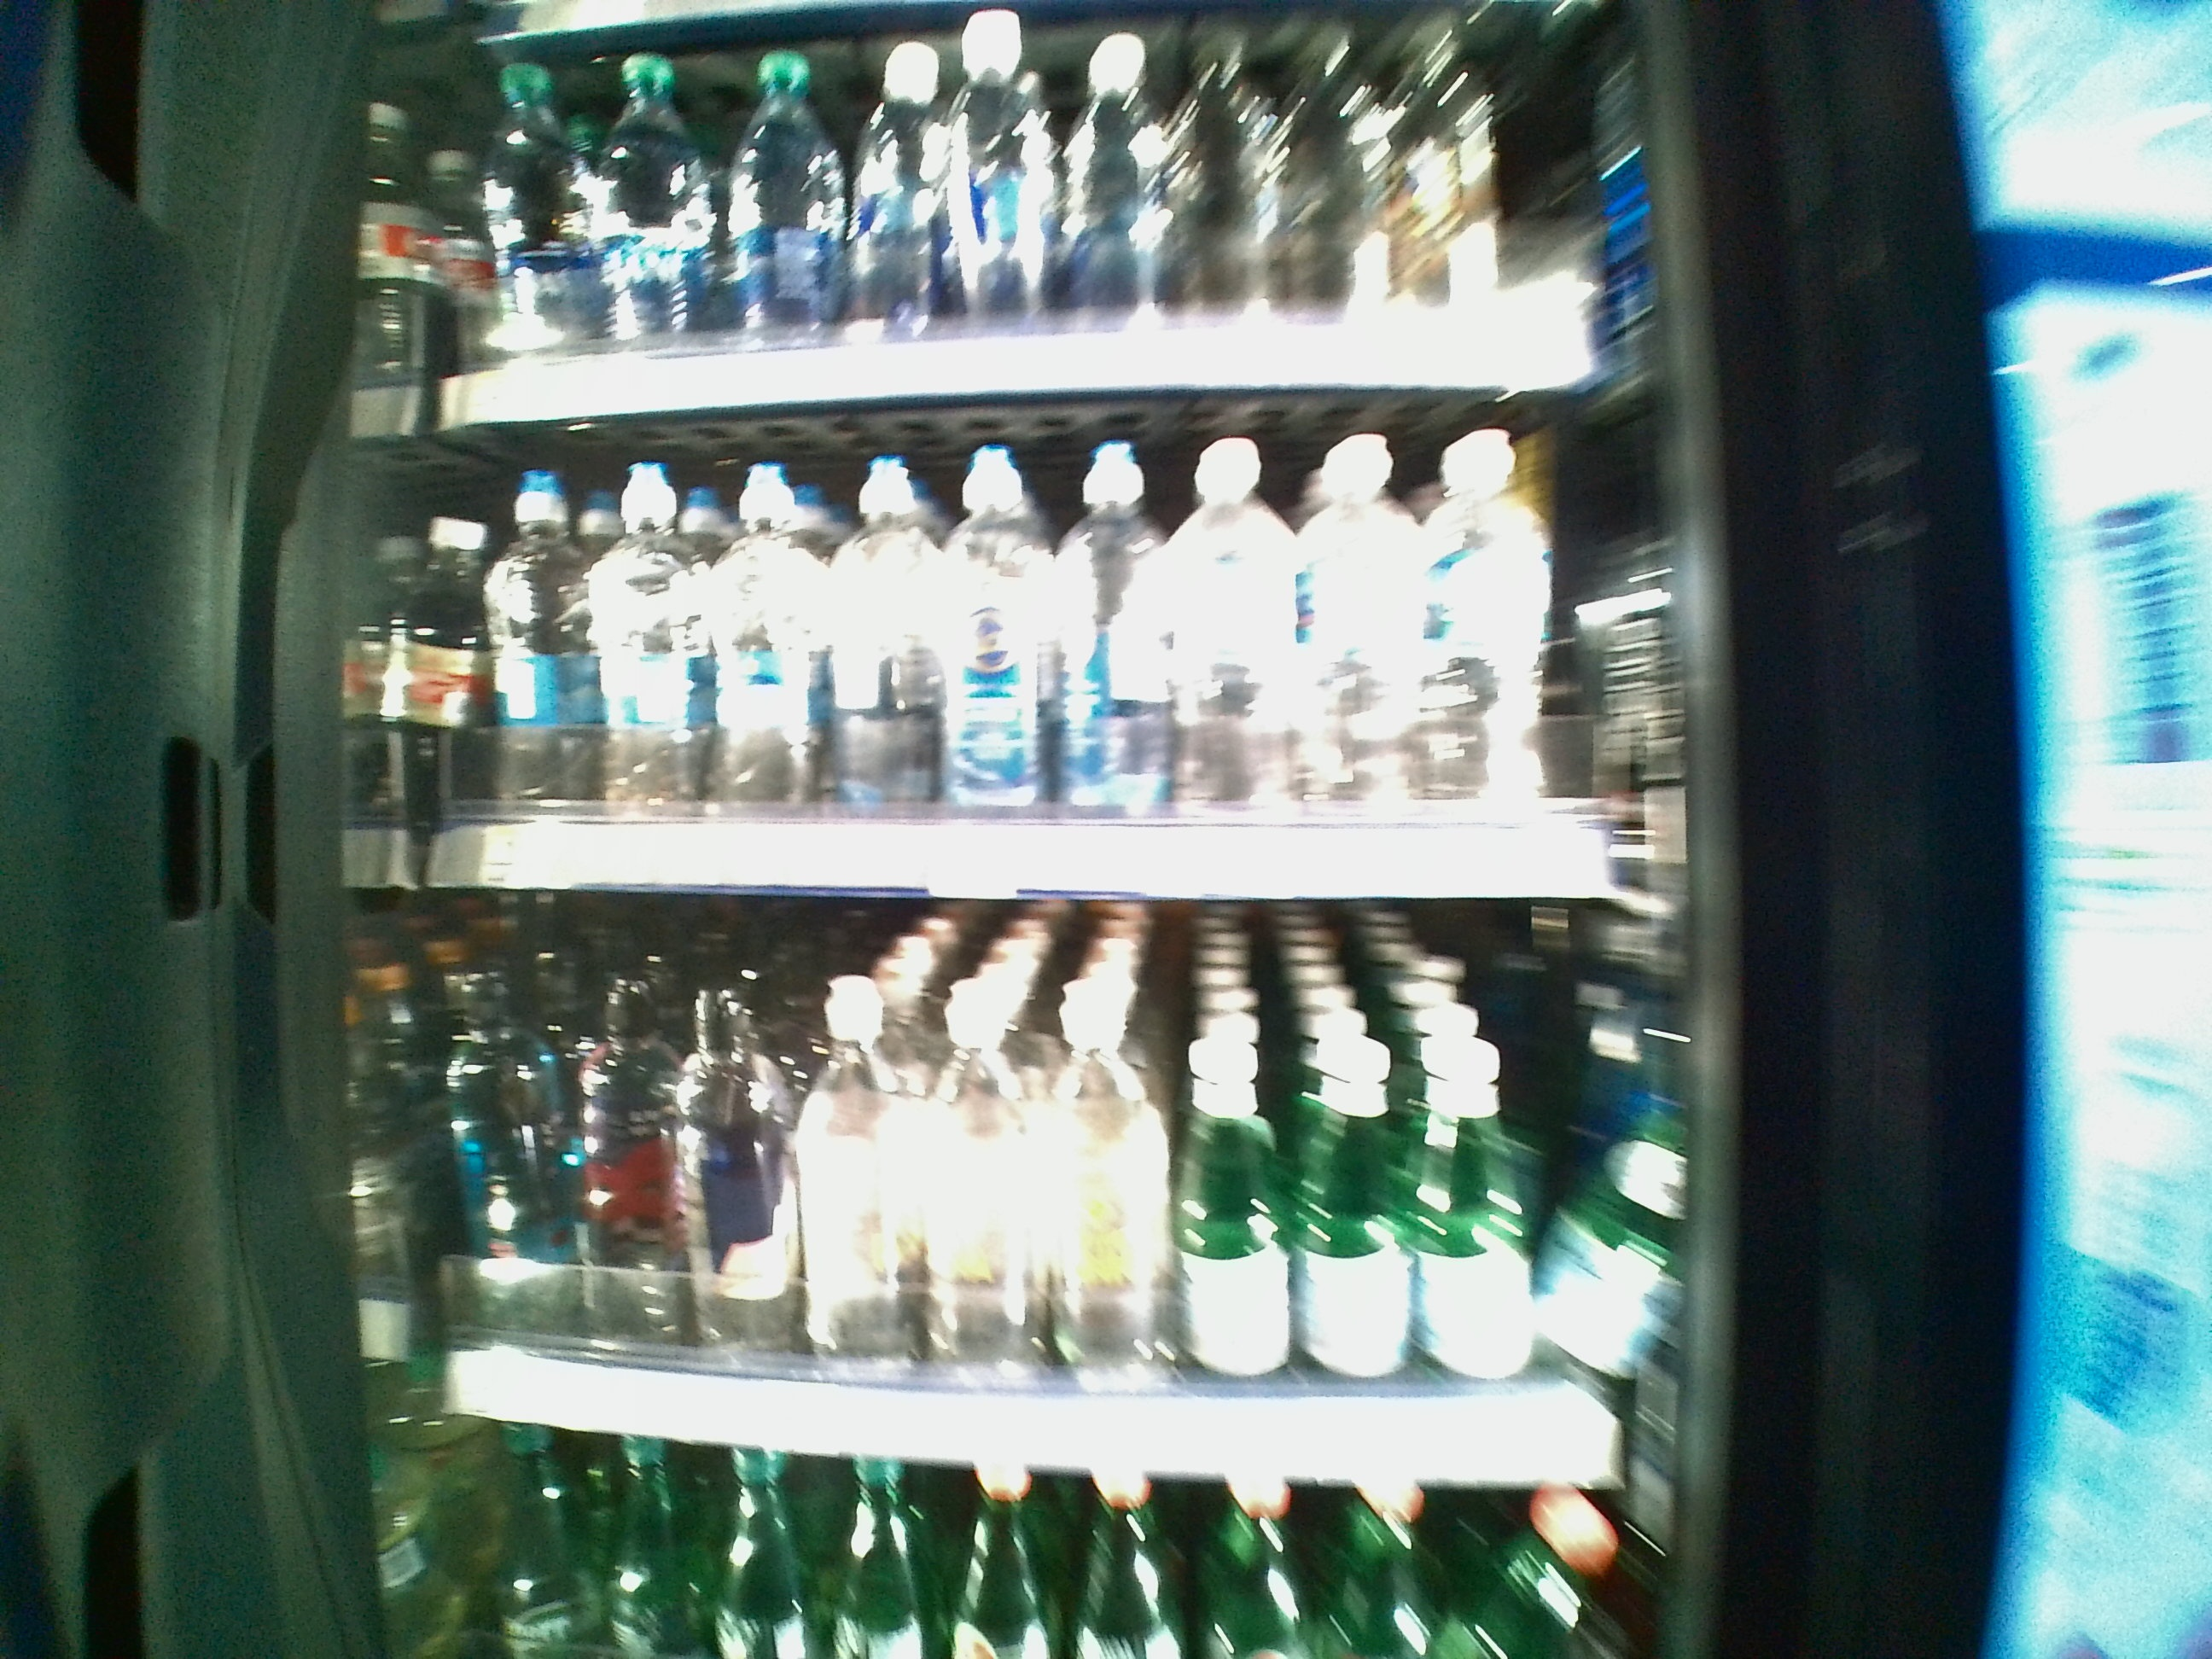Shelf: (399, 913, 1656, 1492), (401, 425, 1639, 910)
